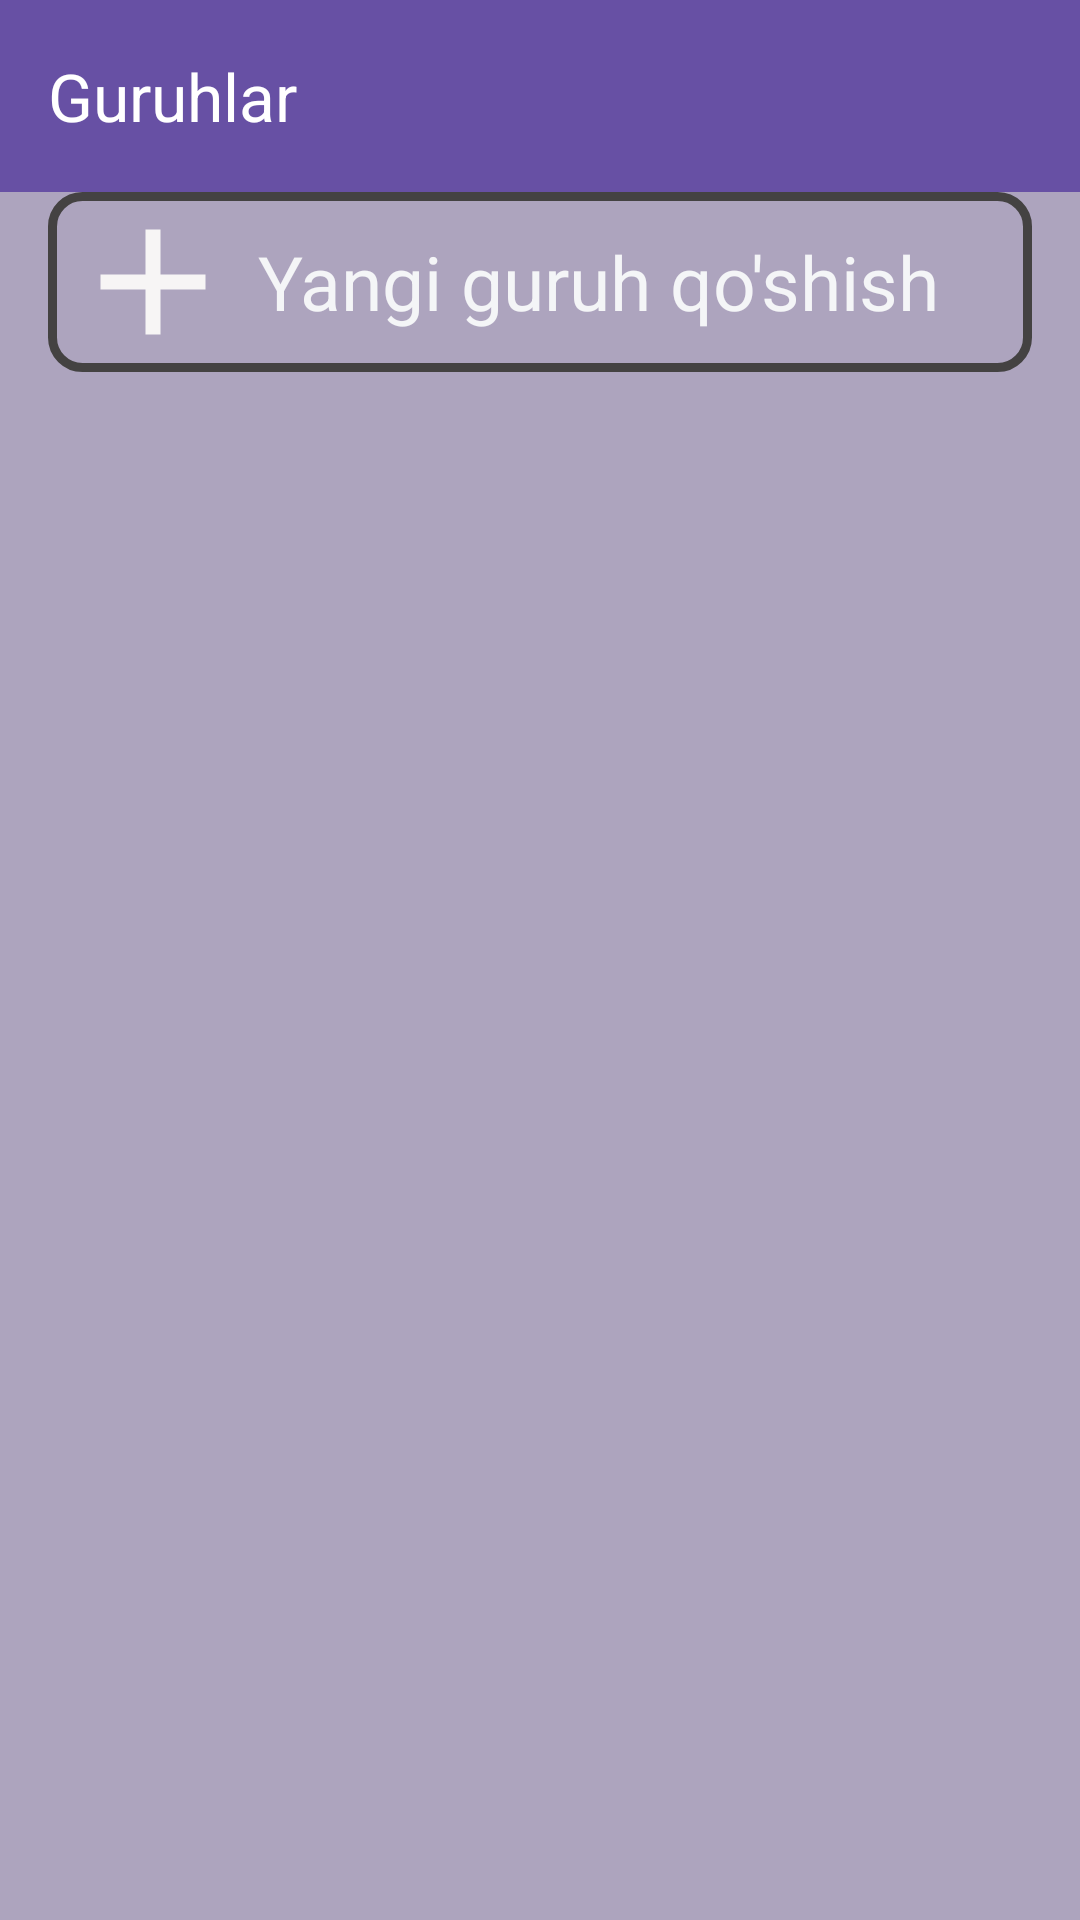

Screen size 1080×1920. Icon name, then its box in pixels as {"left": x1, "top": y1, "right": x2, "bottom": y2}:
add: {"left": 48, "top": 192, "right": 258, "bottom": 372}
